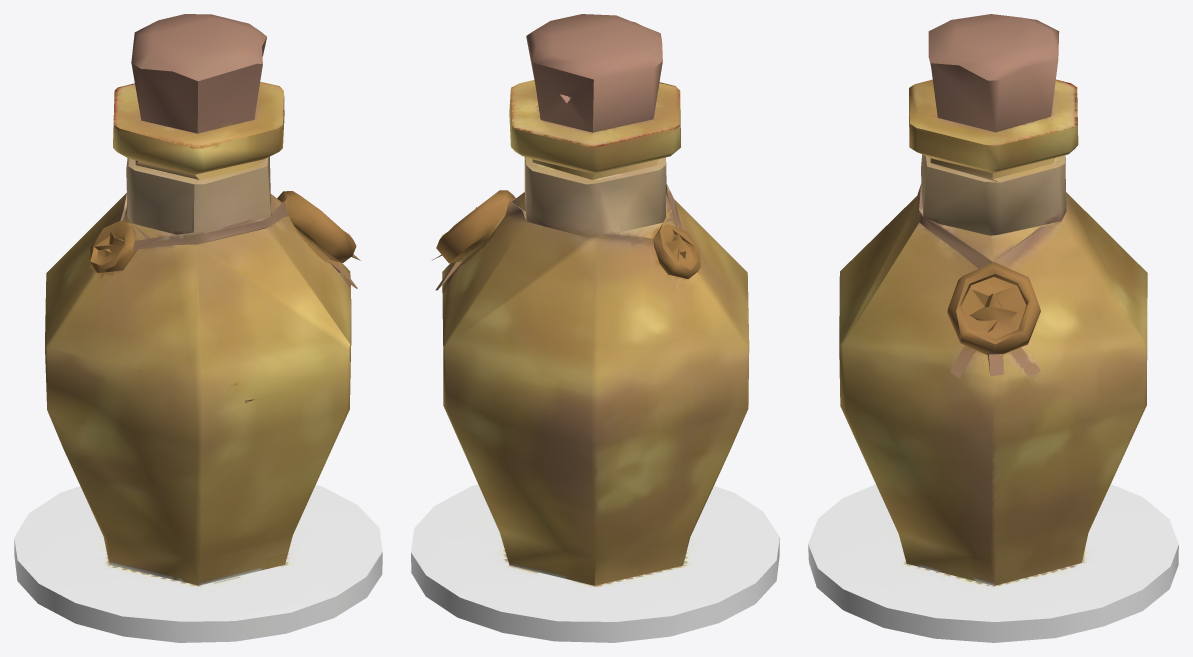
The model's file is 黃藥水.glb.
3 renders of one model, left to right at view 1: azimuth 30°, elevation 25°; view 2: azimuth 150°, elevation 25°; view 3: azimuth 270°, elevation 25°, orthographic.
Parts seen in each view (by area): view 1: geometry_0; view 2: geometry_0; view 3: geometry_0.
Boxes of the visible parts, box(x1,y1,x2,y2) form: geometry_0: box(14, 14, 382, 642); geometry_0: box(411, 14, 779, 642); geometry_0: box(808, 14, 1178, 642).
Size of the model in its own units: 0.6341 by 1 by 0.6321.
Materials: 1 (1 with a texture image).
